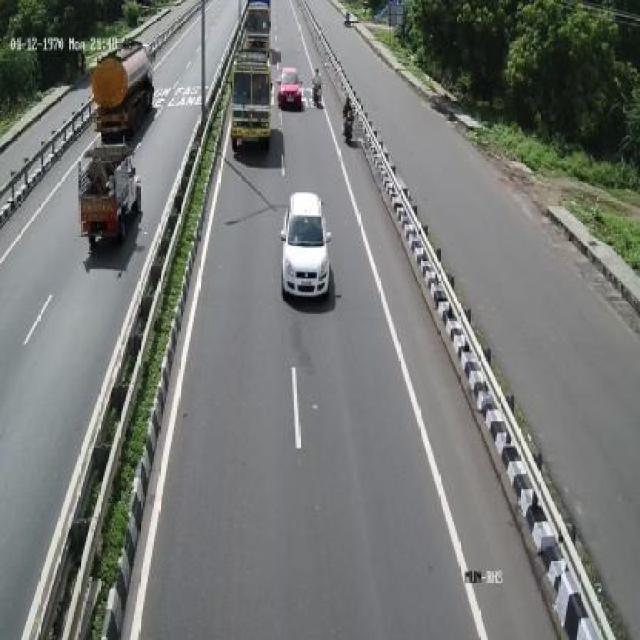car: (283, 188, 334, 306), (279, 61, 306, 114)
